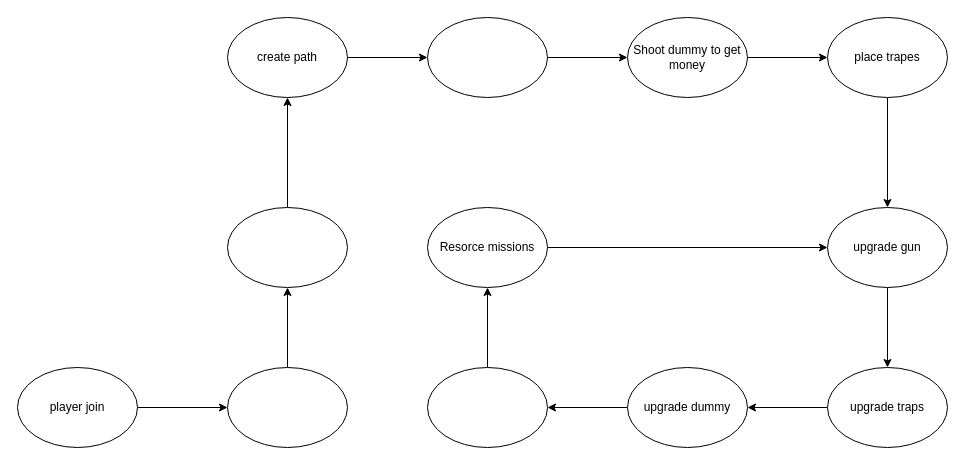
The diagram is 965 pixels wide and 465 high, and some of its shapes have lost their labels. Here are the shapes that lost their labels. From the top down, the centre of each, then its label:
(487,57): buy dummy part
(287,247): place collector
(287,407): place spawn
(487,407): Trap Research
